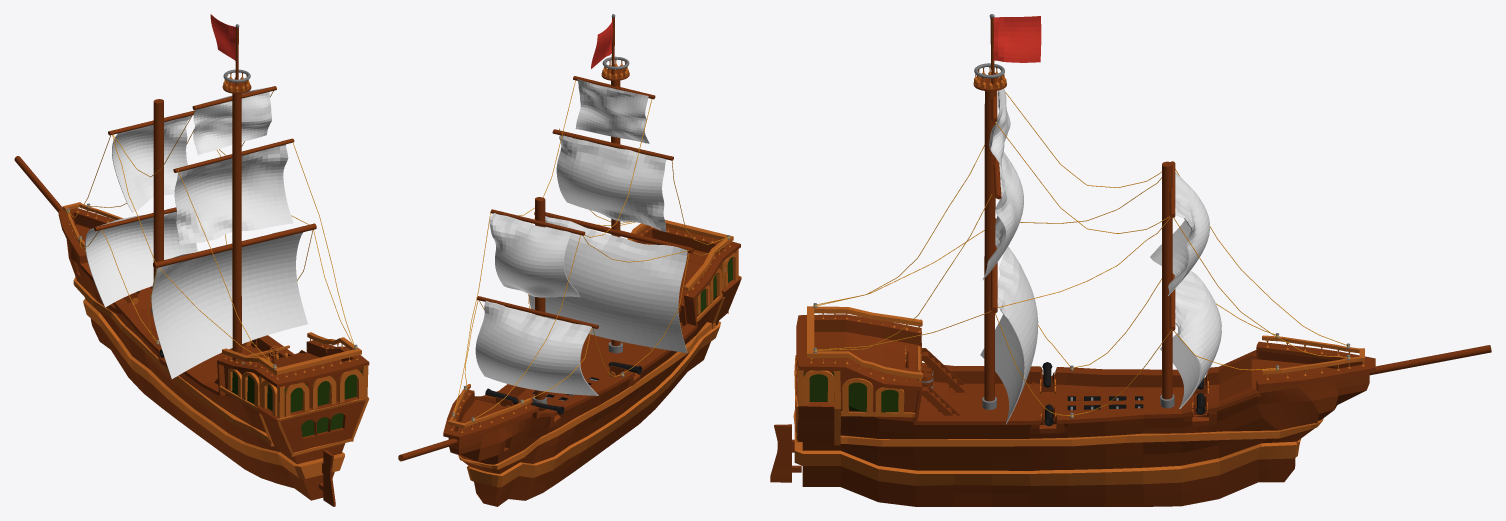
File: Sailing_ship_blender.fbx
3 renders of one model, left to right at view 1: azimuth 30°, elevation 25°; view 2: azimuth 150°, elevation 25°; view 3: azimuth 270°, elevation 25°, orthographic. The views are drawn at different scales.
Visible parts, largest first — view 1: Ship, Cords, Banner; view 2: Ship, Cords, Banner; view 3: Ship, Cords, Banner.
Part boxes in pixels (x1,y1,x2,y2): Ship: (14, 24, 369, 506); Cords: (68, 91, 354, 367); Banner: (210, 14, 235, 60); Ship: (398, 14, 741, 506); Cords: (454, 80, 728, 418); Banner: (591, 18, 613, 68); Ship: (770, 14, 1491, 506); Cords: (813, 91, 1346, 415); Banner: (993, 16, 1041, 62).
Bounding box in the file's own units: 1782 × 4560 × 6082.
